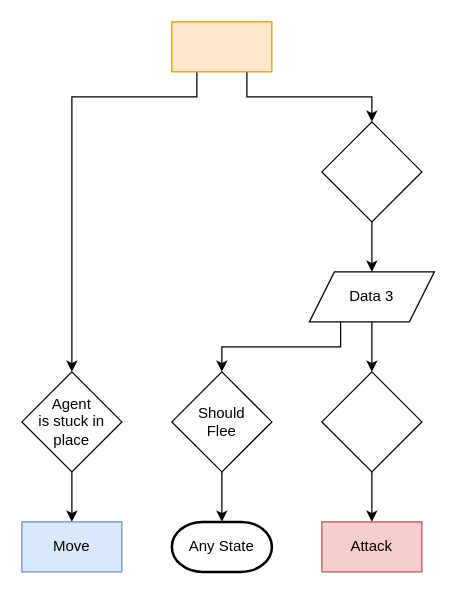
The diagram is 456 pixels wide and 595 high, and some of its shapes have lost their labels. Here are the shapes that lost their labels. From the top down, the box of each, then its label:
(171, 21, 272, 72): Search For Enemy
(321, 121, 422, 222): Can see enemy
(321, 371, 422, 472): Should Attack
